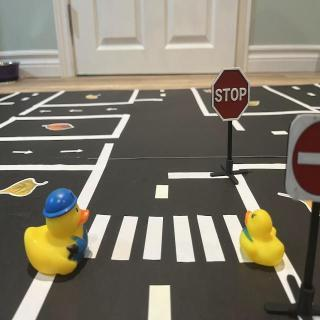duck_regular: (240, 210, 286, 271)
duck_specialty: (25, 190, 91, 279)
road_crosswalk: (82, 213, 260, 263)
road_oneway: (59, 147, 87, 157), (10, 148, 36, 158), (37, 110, 55, 116), (69, 109, 86, 115), (105, 107, 120, 113)
sign_noentry: (284, 113, 320, 203)
sign_stop: (213, 69, 251, 123)
